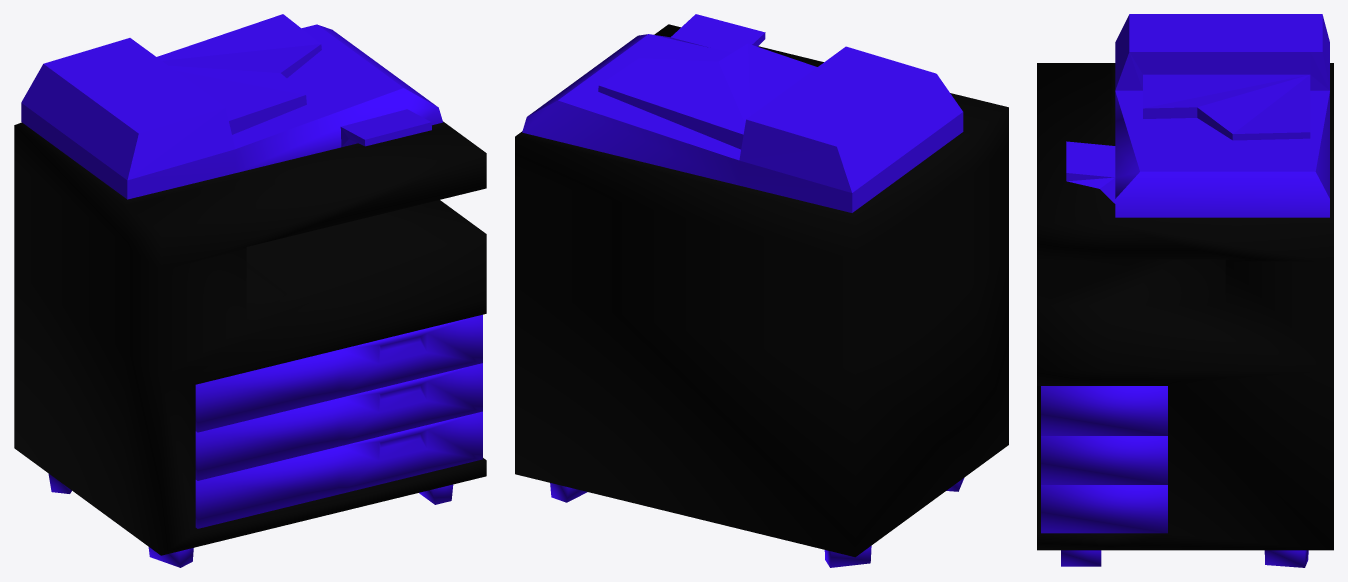
Rendered from office_pack_printer_large_1_meshCollider.fbx.
The picture shows the model from 3 angles, left to right: view 1: azimuth 30°, elevation 25°; view 2: azimuth 150°, elevation 25°; view 3: azimuth 270°, elevation 25°; orthographic projection. The views are drawn at different scales.
Parts seen in each view (by area): view 1: office_pack_printer_large_1_meshCollider, office_pack_printer_large_hatch_1_meshCollider, office_pack_printer_large_locker_2_meshCollider, office_pack_printer_large_locker_3_meshCollider, office_pack_printer_large_locker_1_meshCollider; view 2: office_pack_printer_large_1_meshCollider, office_pack_printer_large_hatch_1_meshCollider; view 3: office_pack_printer_large_1_meshCollider, office_pack_printer_large_hatch_1_meshCollider, office_pack_printer_large_locker_3_meshCollider, office_pack_printer_large_locker_2_meshCollider, office_pack_printer_large_locker_1_meshCollider.
Part boxes in pixels (x1,y1,x2,y2): office_pack_printer_large_1_meshCollider: (14,121,486,567); office_pack_printer_large_hatch_1_meshCollider: (21,14,442,199); office_pack_printer_large_locker_2_meshCollider: (195,363,482,480); office_pack_printer_large_locker_3_meshCollider: (195,314,482,432); office_pack_printer_large_locker_1_meshCollider: (195,411,482,528); office_pack_printer_large_1_meshCollider: (515,24,1008,567); office_pack_printer_large_hatch_1_meshCollider: (522,14,963,212); office_pack_printer_large_1_meshCollider: (1037,63,1333,567); office_pack_printer_large_hatch_1_meshCollider: (1066,14,1329,217); office_pack_printer_large_locker_3_meshCollider: (1041,386,1167,435); office_pack_printer_large_locker_2_meshCollider: (1041,436,1167,484); office_pack_printer_large_locker_1_meshCollider: (1041,485,1167,533).
Bounding box in the file's own units: 51.76 × 63.08 × 40.43.
